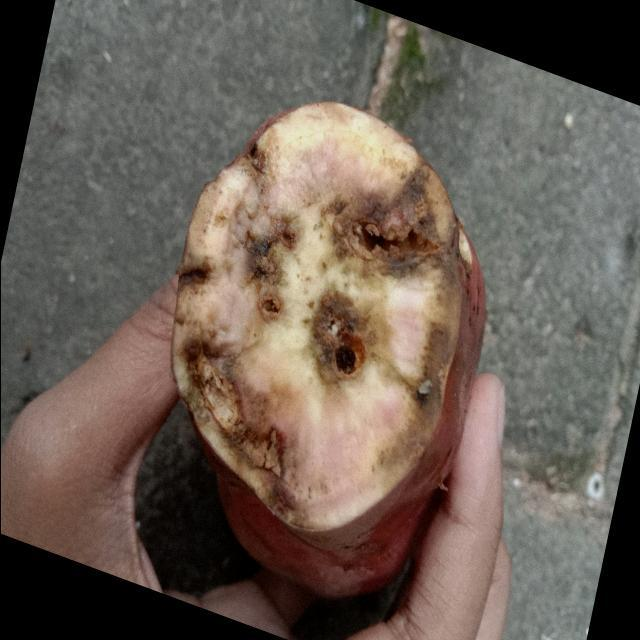Sick Sweet Potato_Tuber Rot: (171, 102, 484, 548)
